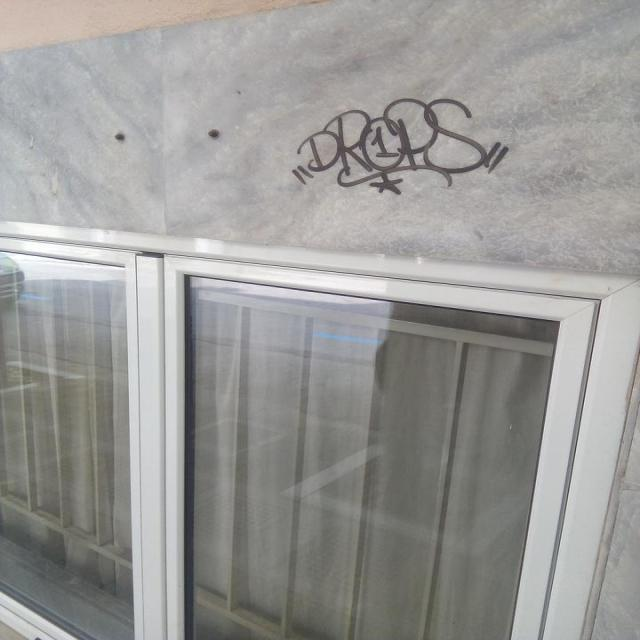nonspitting: (292, 96, 512, 193)
